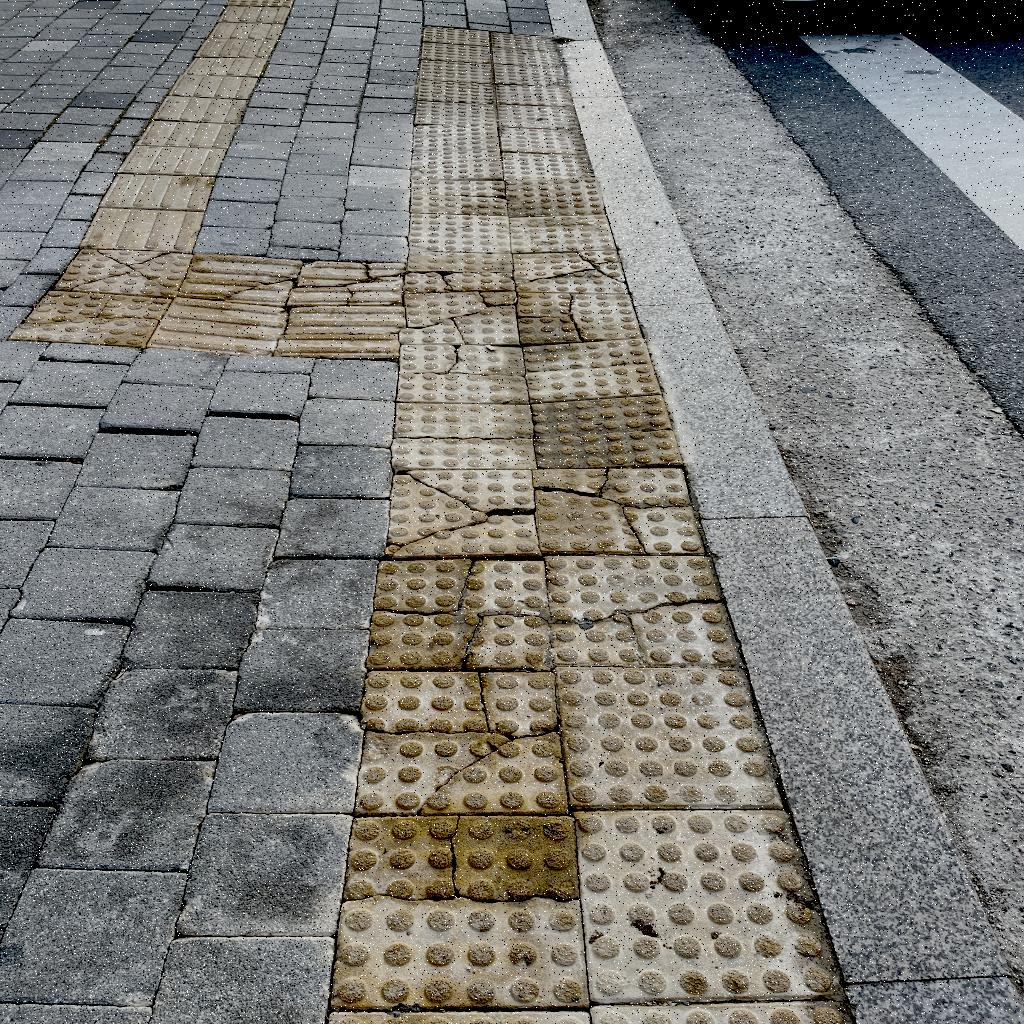Stop block broken: (330, 815, 586, 1008), (357, 671, 567, 811), (547, 556, 742, 663), (369, 561, 550, 668), (535, 470, 704, 553), (386, 470, 538, 557), (531, 395, 681, 468), (9, 288, 172, 350), (393, 402, 535, 468), (397, 346, 529, 404), (517, 286, 642, 344), (55, 249, 191, 296), (402, 293, 517, 344), (403, 249, 515, 293), (514, 252, 627, 293), (412, 180, 506, 214)
Stop block normal: (576, 807, 842, 1002), (559, 668, 780, 804), (523, 338, 660, 403), (410, 213, 510, 253), (511, 215, 615, 252), (506, 178, 603, 216), (412, 122, 499, 153), (412, 149, 501, 179), (502, 151, 594, 180), (500, 127, 587, 154), (497, 105, 579, 129), (418, 81, 495, 104), (416, 101, 496, 123), (495, 85, 573, 107), (420, 60, 493, 83), (493, 64, 568, 86), (422, 43, 492, 64), (491, 48, 563, 68)
Straight block broken: (275, 306, 403, 357), (178, 253, 301, 306), (288, 262, 405, 305)
Straight block normal: (148, 295, 286, 360), (81, 208, 203, 253), (100, 174, 213, 211), (118, 145, 226, 176), (137, 120, 237, 149), (154, 96, 246, 123), (170, 75, 257, 98), (184, 58, 266, 76)
